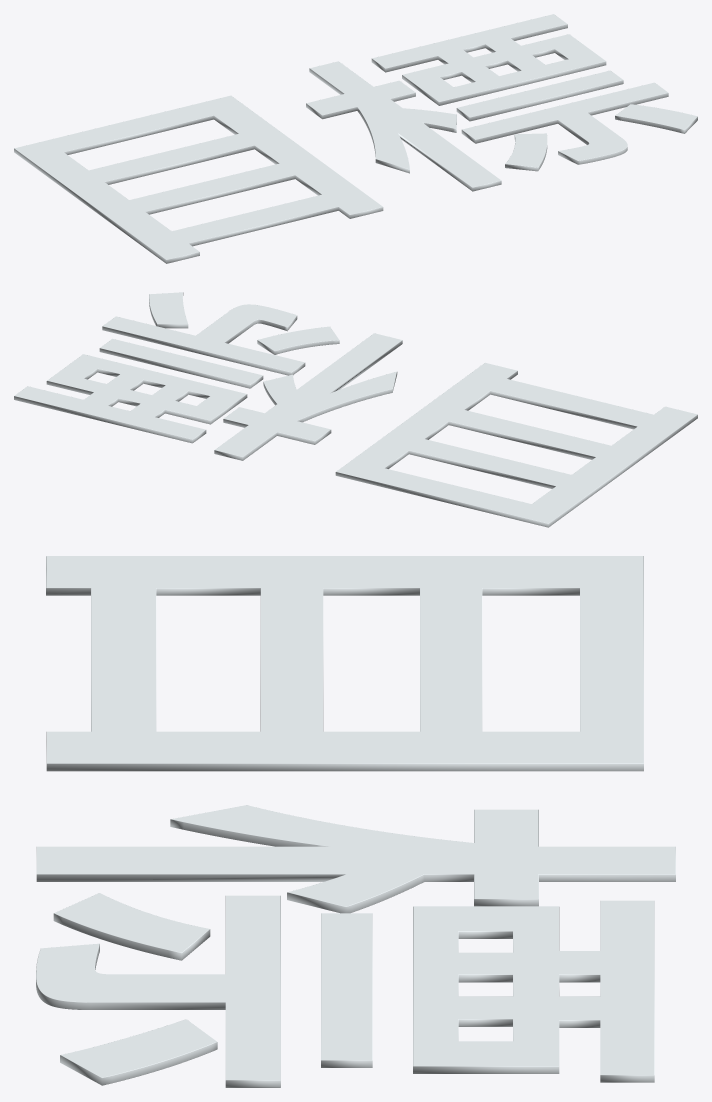
Rendered from category_goal.obj.
3 renders of one model, top to bottom at view 1: azimuth 30°, elevation 25°; view 2: azimuth 150°, elevation 25°; view 3: azimuth 270°, elevation 25°, orthographic. The views are drawn at different scales.
Visible parts, largest first — view 1: category_goal; view 2: category_goal; view 3: category_goal.
Boxes of the visible parts, x1=… form: category_goal: x1=14, y1=14, x2=697, y2=263; category_goal: x1=14, y1=292, x2=697, y2=527; category_goal: x1=36, y1=556, x2=675, y2=1087.
Bounding box in the file's own units: 1.4 × 0.00983 × 0.72.
Materials: 1 (1 with a texture image).
